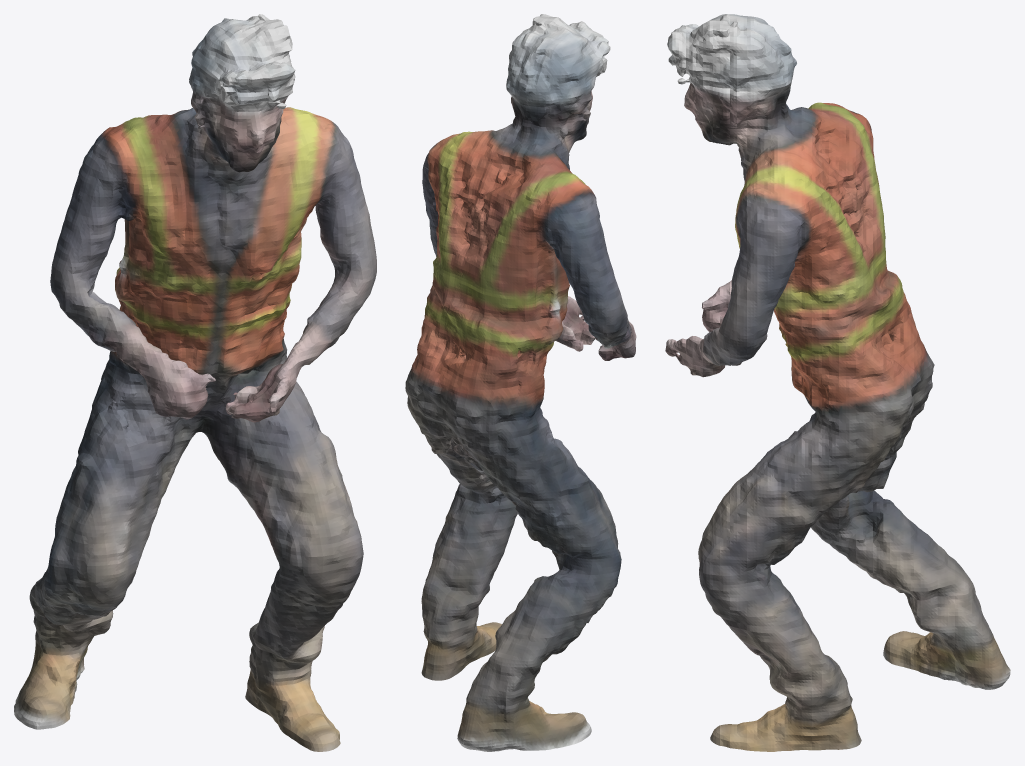
The model's file is standup_12.glb.
3 renders of one model, left to right at view 1: azimuth 30°, elevation 25°; view 2: azimuth 150°, elevation 25°; view 3: azimuth 270°, elevation 25°, orthographic. The views are drawn at different scales.
Visible parts, largest first — view 1: world; view 2: world; view 3: world.
Boxes of the visible parts, bbox=[...] form: world: bbox=[14, 14, 376, 751]; world: bbox=[405, 14, 636, 751]; world: bbox=[665, 14, 1010, 751].
Size of the model in its own units: 0.6788 by 1.76 by 0.7951.
